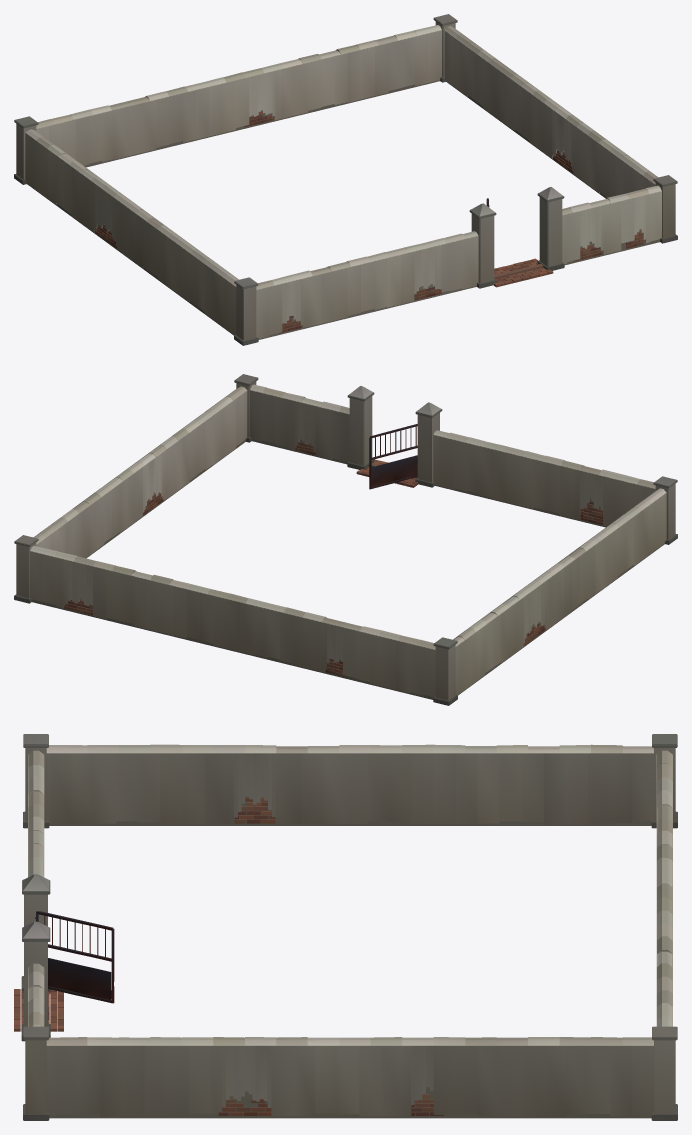
File: house_plots_3.glb
3 views of the same model, one above another, from view 1: azimuth 30°, elevation 25°; view 2: azimuth 150°, elevation 25°; view 3: azimuth 270°, elevation 25° (orthographic). The views are drawn at different scales.
Parts seen in each view (by area): view 1: house_plots_3_hb_main; view 2: house_plots_3_hb_main, house_plots_3_hb_metal; view 3: house_plots_3_hb_main, house_plots_3_hb_metal.
Part boxes in pixels (left/top/right/bottom): house_plots_3_hb_main: left=14, top=14, right=677, bottom=345; house_plots_3_hb_main: left=14, top=374, right=677, bottom=705; house_plots_3_hb_metal: left=369, top=424, right=417, bottom=489; house_plots_3_hb_main: left=14, top=734, right=677, bottom=1120; house_plots_3_hb_metal: left=35, top=911, right=114, bottom=1003.
Size of the model in its own units: 11.41 by 1.98 by 10.55.
